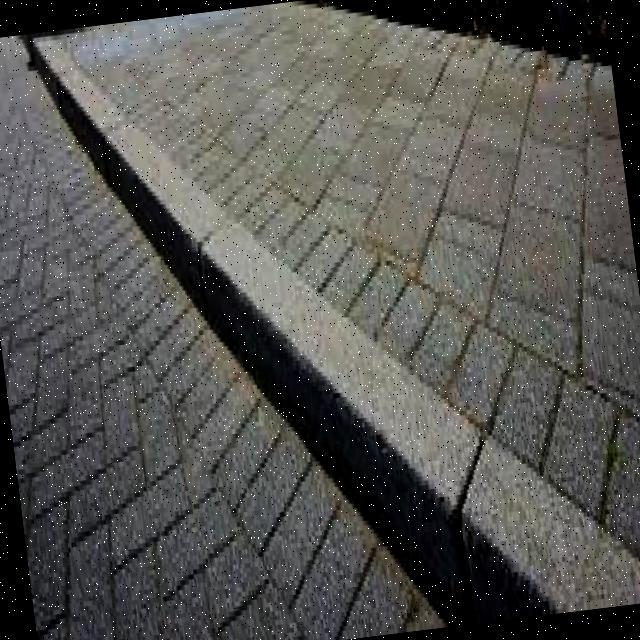curb: (134, 176, 429, 483), (352, 377, 640, 636), (27, 39, 196, 243)
